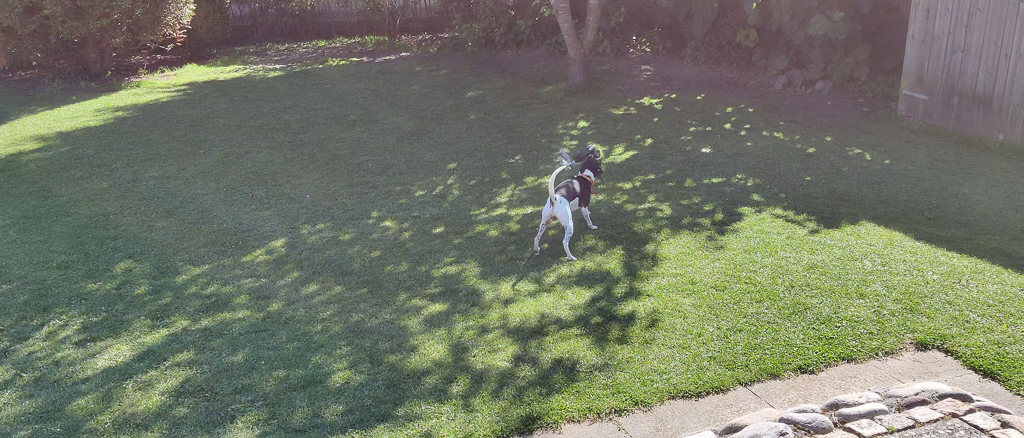Dog: (525, 138, 613, 266)
